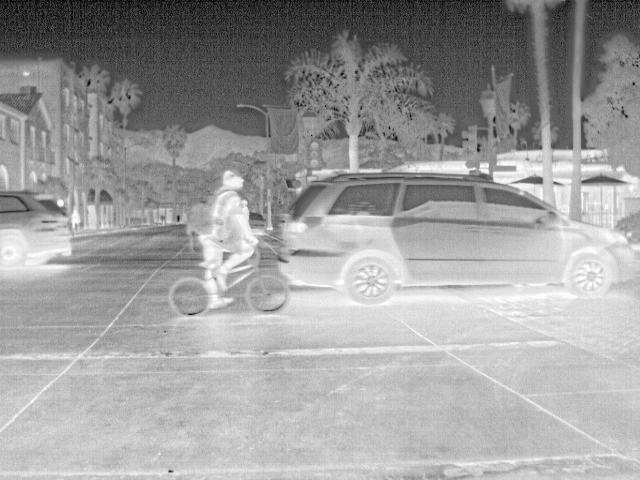car: (278, 168, 638, 308), (0, 188, 59, 270), (35, 198, 74, 260), (245, 209, 271, 234)
person: (193, 168, 259, 311)
